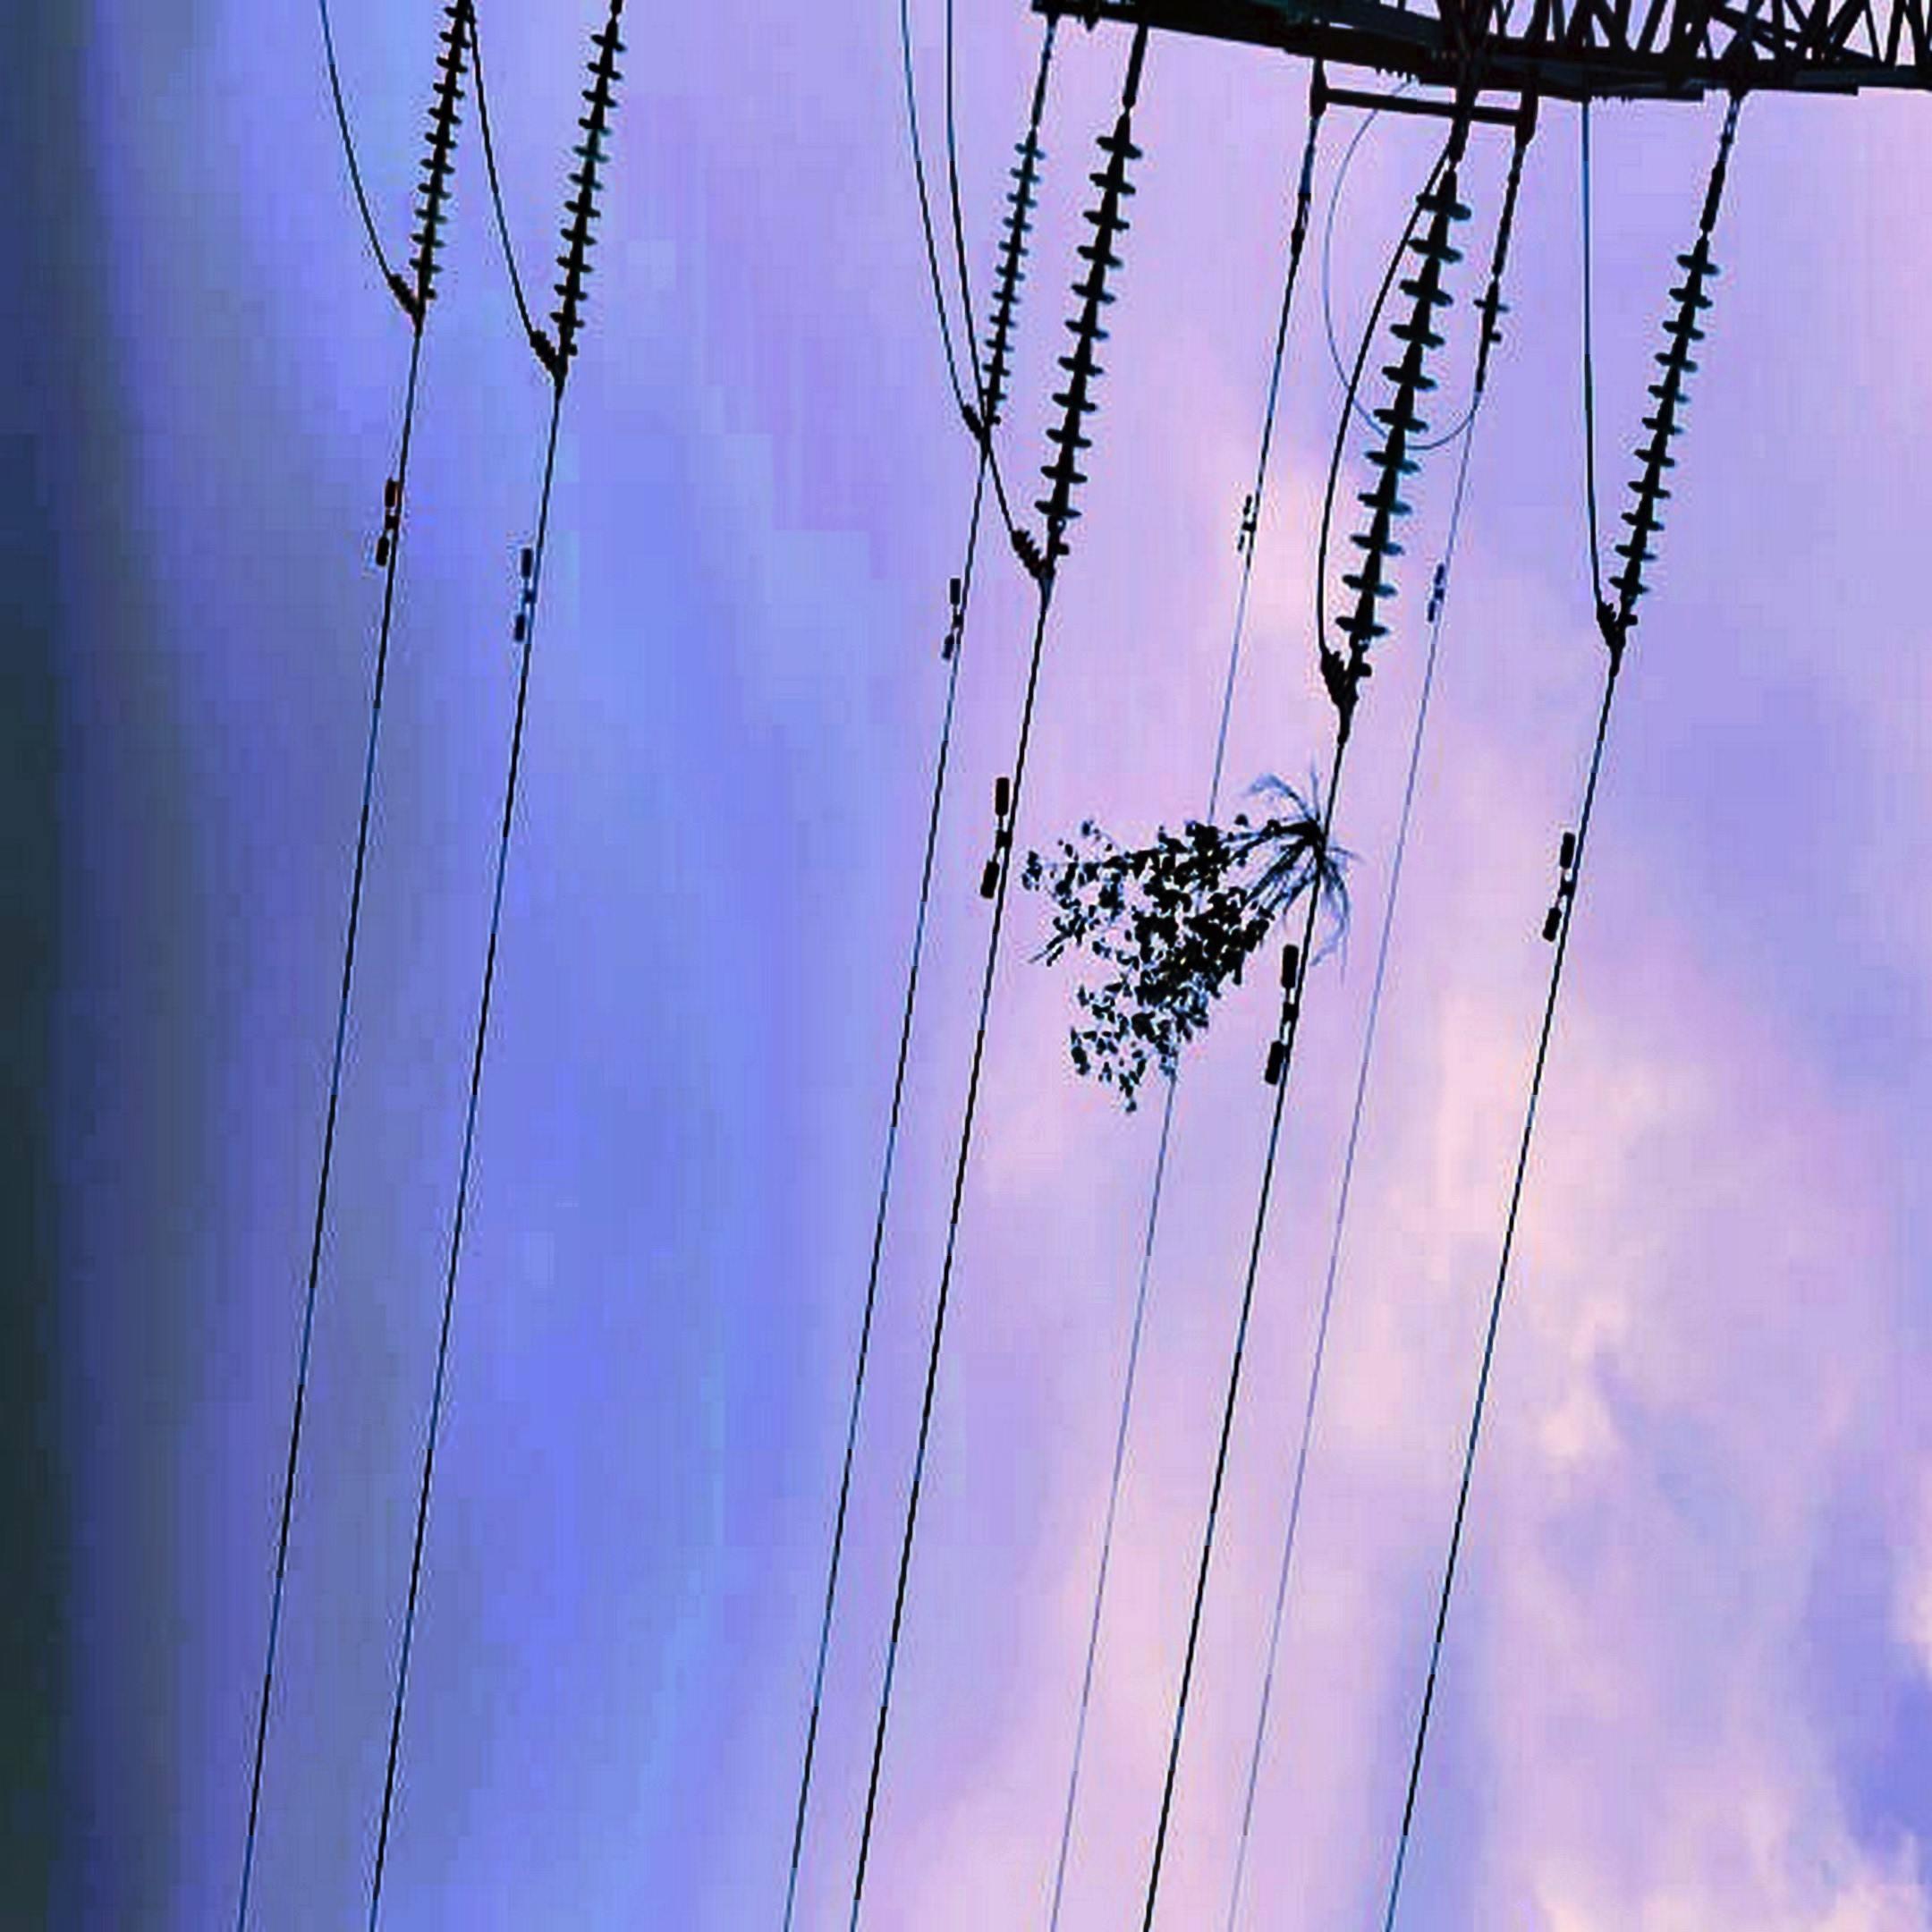wire foreign body: (1005, 798, 1368, 1065)
